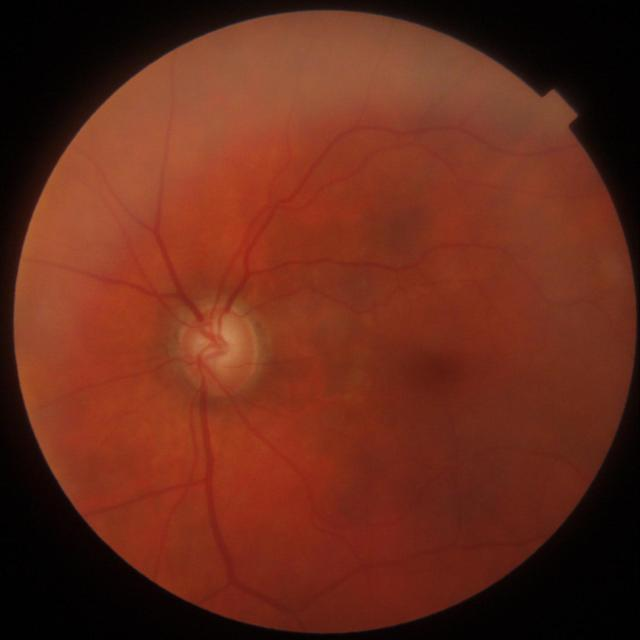OC: (194, 324, 238, 366)
OD: (180, 309, 258, 397)
